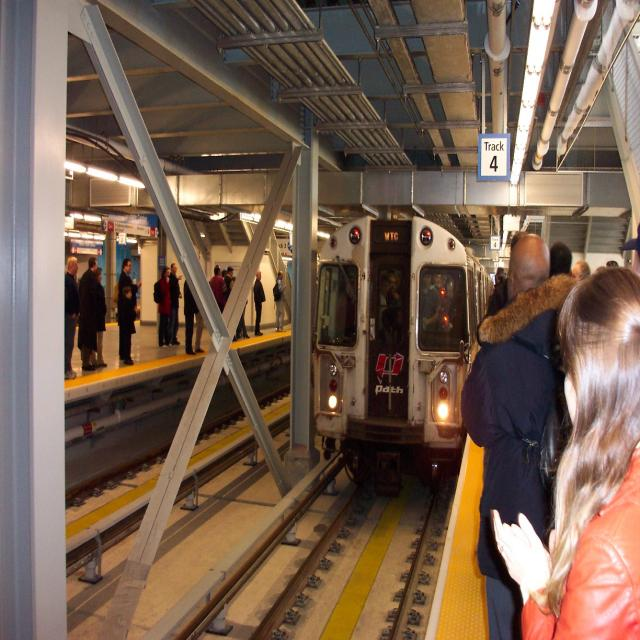body: (490, 265, 640, 640), (459, 232, 576, 640), (325, 256, 465, 354), (546, 219, 640, 281), (215, 255, 253, 345), (77, 255, 100, 372), (64, 256, 80, 380), (90, 265, 108, 370), (120, 284, 142, 366), (117, 256, 143, 322), (152, 264, 172, 349), (168, 262, 183, 346), (486, 264, 509, 314), (183, 276, 197, 355), (208, 264, 229, 314), (252, 268, 266, 336), (275, 269, 287, 333), (194, 306, 206, 354)
